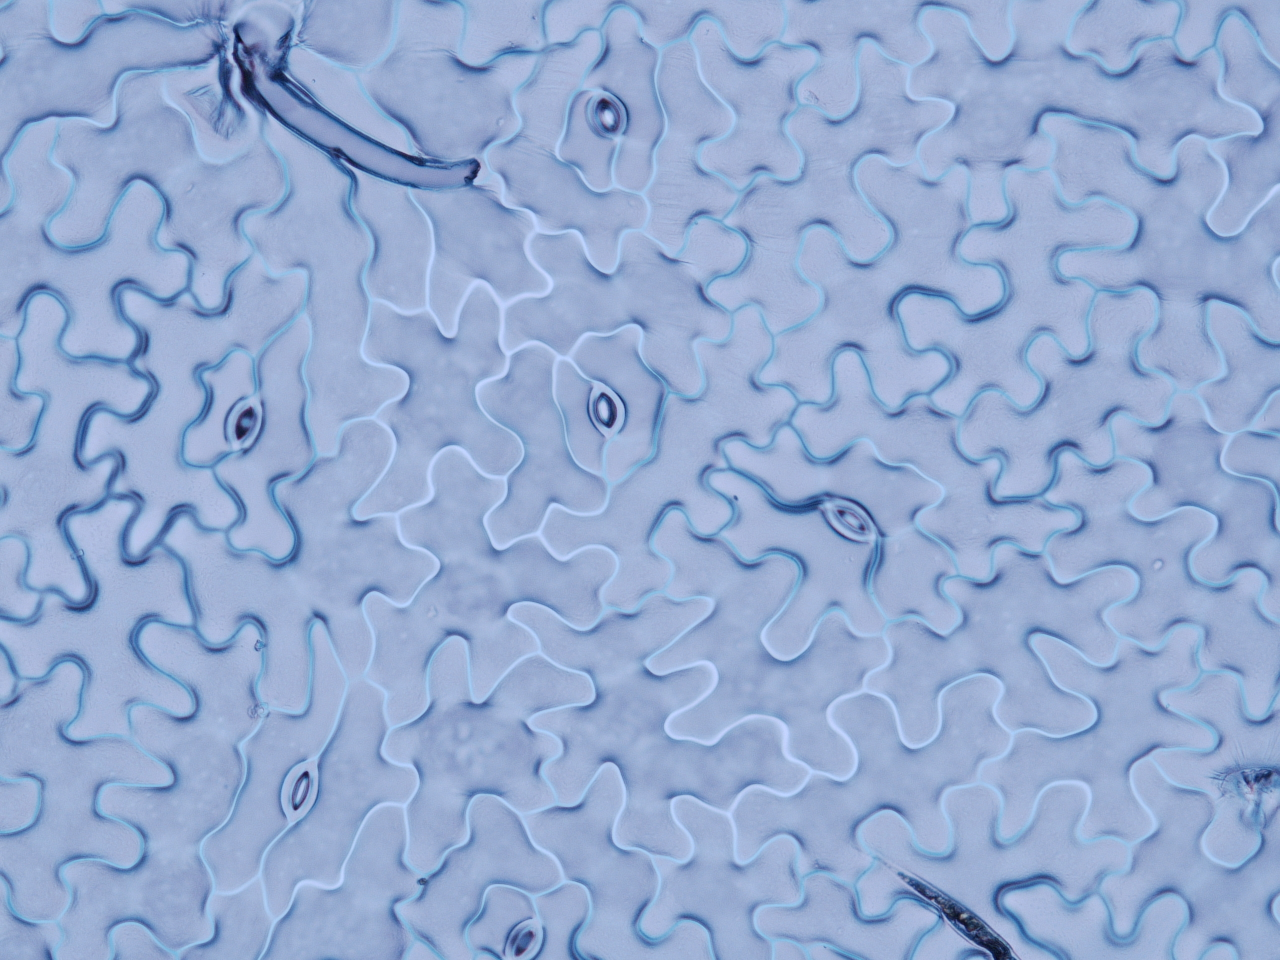estoma: (821, 491, 884, 551), (275, 762, 323, 826), (583, 377, 630, 436), (229, 395, 263, 452), (589, 91, 627, 139), (503, 920, 541, 960)
